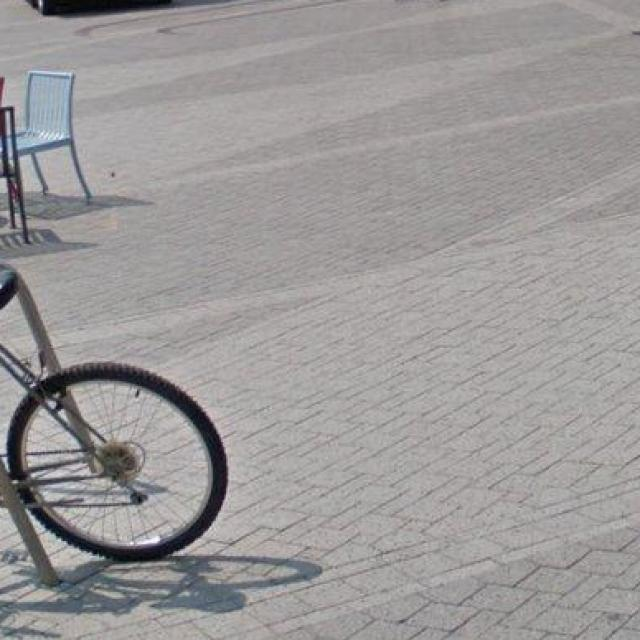bicycle: (0, 253, 255, 580)
